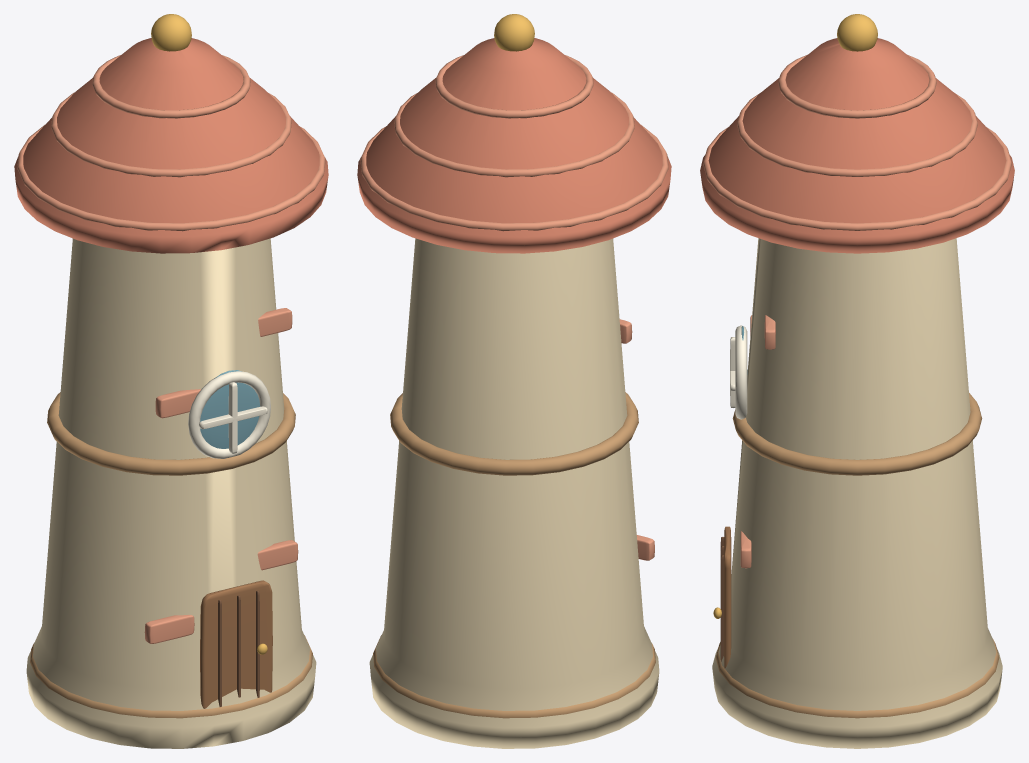
The model's file is moinho-cartoon.obj.
3 renders of one model, left to right at view 1: azimuth 30°, elevation 25°; view 2: azimuth 150°, elevation 25°; view 3: azimuth 270°, elevation 25°, orthographic.
Parts seen in each view (by area): view 1: curva, aro, madeira, volume; view 2: curva, aro, volume, madeira; view 3: curva, aro, madeira, volume.
Boxes of the visible parts, x1,y1,x2,y2 form: curva: (14, 38, 328, 748); aro: (17, 55, 325, 718); madeira: (144, 308, 298, 708); volume: (151, 14, 267, 654); curva: (357, 38, 671, 748); aro: (360, 55, 668, 718); volume: (494, 14, 534, 51); madeira: (619, 319, 654, 560); curva: (700, 38, 1014, 748); aro: (703, 55, 1011, 718); madeira: (720, 315, 775, 668); volume: (713, 14, 877, 618).
Size of the model in its own units: 1.3 by 3.07 by 1.3.
Materials: 1 (1 with a texture image).
